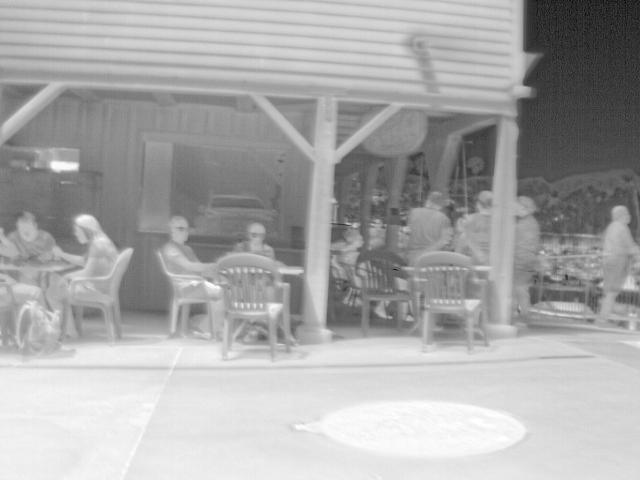person: (591, 203, 638, 326), (50, 216, 121, 280), (158, 214, 226, 278), (397, 191, 458, 262), (4, 211, 82, 261), (513, 194, 542, 311), (458, 191, 495, 268), (228, 220, 281, 256), (338, 227, 367, 262)
